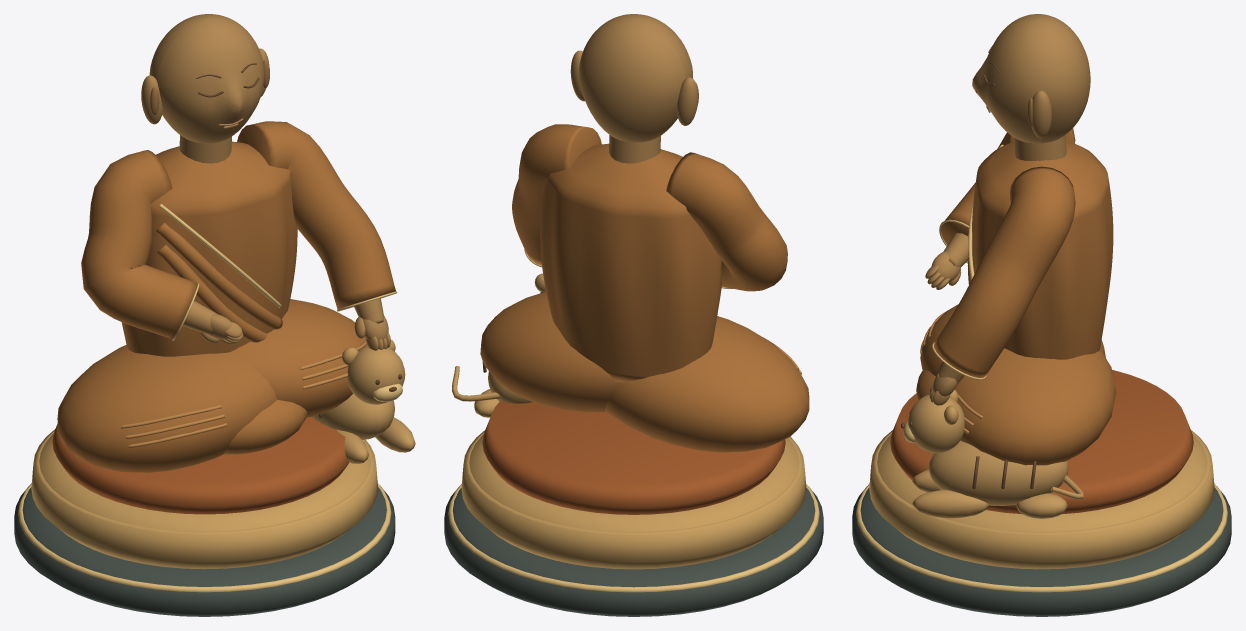
The model's file is arhat_02.glb.
The picture shows the model from 3 angles, left to right: view 1: azimuth 30°, elevation 25°; view 2: azimuth 150°, elevation 25°; view 3: azimuth 270°, elevation 25°; orthographic projection.
Parts seen in each view (by area): view 1: arhat_02_ArhatDrapery, arhat_02_AntiqueGold, arhat_02_CarvedPlinth, arhat_02_WarmBronze, arhat_02_SaffronDrapery, arhat_02_AnimalBronze, arhat_02_RaisedGoldBorders, arhat_02_DraperyFoldHighlights; view 2: arhat_02_ArhatDrapery, arhat_02_SaffronDrapery, arhat_02_AntiqueGold, arhat_02_CarvedPlinth, arhat_02_WarmBronze, arhat_02_RaisedGoldBorders, arhat_02_AnimalBronze; view 3: arhat_02_ArhatDrapery, arhat_02_AntiqueGold, arhat_02_CarvedPlinth, arhat_02_WarmBronze, arhat_02_SaffronDrapery, arhat_02_AnimalBronze, arhat_02_RaisedGoldBorders.
Boxes of the visible parts, x1,y1,x2,y2 form: arhat_02_ArhatDrapery: [57, 121, 395, 472]; arhat_02_AntiqueGold: [31, 429, 377, 569]; arhat_02_CarvedPlinth: [14, 485, 395, 616]; arhat_02_WarmBronze: [141, 14, 390, 350]; arhat_02_SaffronDrapery: [52, 417, 349, 514]; arhat_02_AnimalBronze: [311, 339, 415, 463]; arhat_02_RaisedGoldBorders: [18, 203, 402, 592]; arhat_02_DraperyFoldHighlights: [121, 341, 366, 447]; arhat_02_ArhatDrapery: [480, 124, 809, 452]; arhat_02_SaffronDrapery: [482, 400, 785, 514]; arhat_02_AntiqueGold: [461, 430, 806, 569]; arhat_02_CarvedPlinth: [444, 487, 823, 616]; arhat_02_WarmBronze: [570, 14, 698, 163]; arhat_02_RaisedGoldBorders: [448, 249, 819, 592]; arhat_02_AnimalBronze: [452, 273, 545, 417]; arhat_02_ArhatDrapery: [916, 128, 1116, 465]; arhat_02_AntiqueGold: [869, 430, 1214, 569]; arhat_02_CarvedPlinth: [852, 486, 1231, 616]; arhat_02_WarmBronze: [925, 14, 1090, 405]; arhat_02_SaffronDrapery: [890, 370, 1193, 514]; arhat_02_AnimalBronze: [908, 389, 1083, 518]; arhat_02_RaisedGoldBorders: [856, 144, 1227, 592].
Size of the model in its own units: 0.9453 by 1.4 by 0.92.
